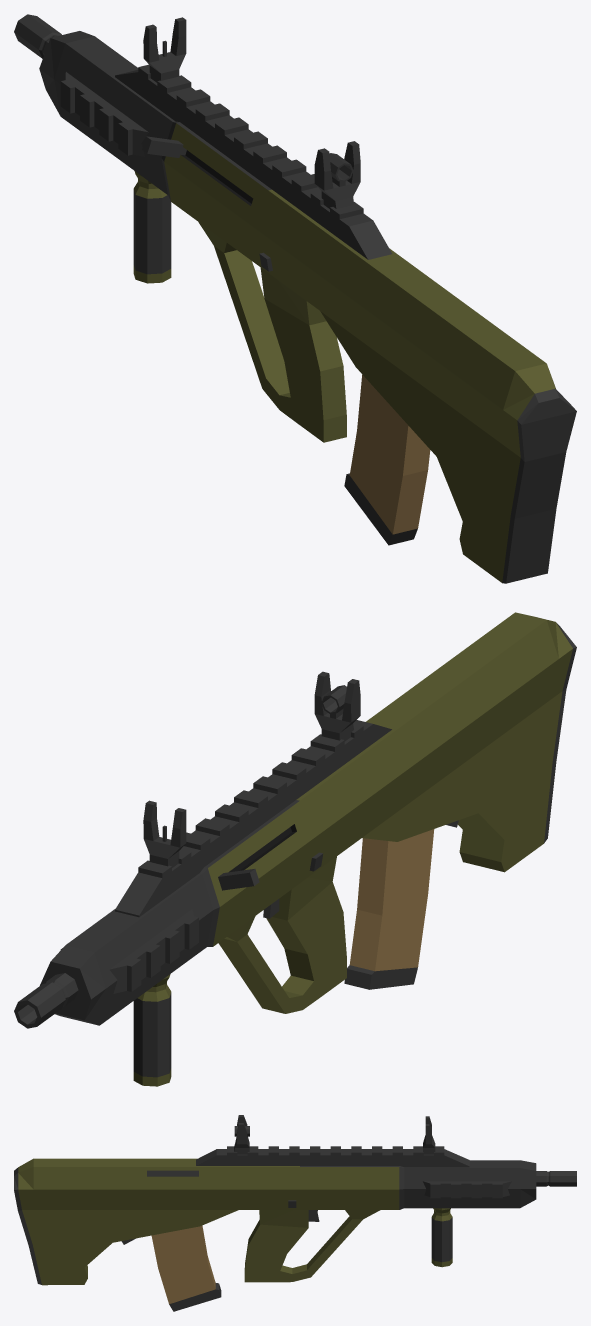
The model's file is Augarino2.dae.
3 views of the same model, one above another, from view 1: azimuth 30°, elevation 25°; view 2: azimuth 150°, elevation 25°; view 3: azimuth 270°, elevation 25° (orthographic). The views are drawn at different scales.
Parts seen in each view (by area): view 1: Cube, Cube_003, Cube_004, Cube_001, Cylinder_004, Cube_008, Cube_006, Cube_007, Cylinder_003, Cube_009; view 2: Cube, Cube_004, Cube_001, Cube_003, Cylinder_004, Cube_008, Cube_006, Cylinder_003, Cube_007, Cube_009; view 3: Cube, Cube_003, Cube_004, Cube_001, Cube_005, Cylinder_004, Cylinder_003, Cube_006, Cube_007.
Part boxes in pixels (x1,y1,x2,y2): Cube: (39, 31, 576, 583); Cube_003: (198, 222, 346, 442); Cube_004: (115, 64, 392, 259); Cube_001: (344, 375, 430, 545); Cylinder_004: (133, 171, 171, 283); Cube_008: (60, 72, 148, 156); Cube_006: (314, 141, 360, 208); Cube_007: (143, 17, 186, 82); Cylinder_003: (14, 14, 61, 58); Cube_009: (142, 136, 186, 157); Cube: (40, 612, 576, 1025); Cube_004: (115, 720, 391, 917); Cube_001: (344, 829, 434, 989); Cube_003: (218, 856, 346, 1013); Cylinder_004: (133, 974, 171, 1086); Cube_008: (109, 909, 198, 993); Cube_006: (314, 671, 360, 741); Cylinder_003: (14, 973, 78, 1028); Cube_007: (143, 800, 186, 867); Cube_009: (218, 869, 259, 890); Cube: (14, 1158, 536, 1285); Cube_003: (244, 1210, 380, 1282); Cube_004: (196, 1146, 469, 1167); Cube_001: (151, 1225, 221, 1311); Cube_005: (423, 1181, 511, 1198); Cylinder_004: (431, 1208, 452, 1267); Cylinder_003: (536, 1171, 576, 1186); Cube_006: (234, 1115, 249, 1154); Cube_007: (423, 1116, 435, 1154).
Bounding box in the file's own units: 0.9808 × 9.67 × 3.57.
